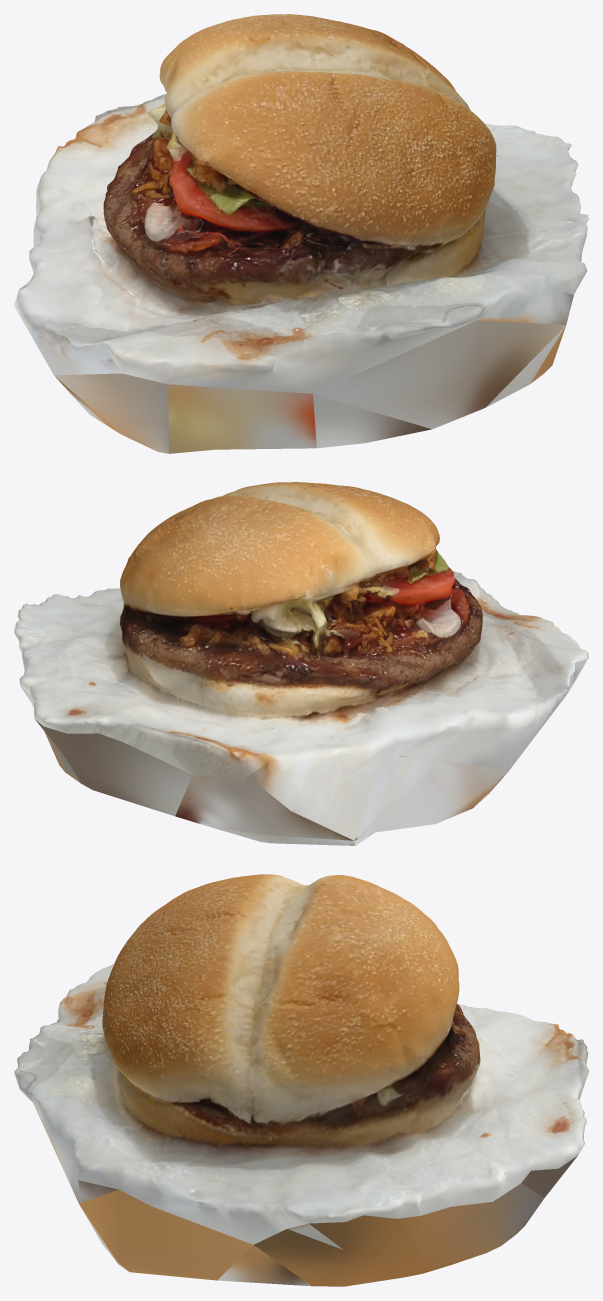
The model's file is bowl.glb.
3 views of the same model, one above another, from view 1: azimuth 30°, elevation 25°; view 2: azimuth 150°, elevation 25°; view 3: azimuth 270°, elevation 25° (orthographic). The views are drawn at different scales.
Parts seen in each view (by area): view 1: Object_2; view 2: Object_2; view 3: Object_2.
Part boxes in pixels (x1,y1,x2,y2): Object_2: (14, 14, 588, 453); Object_2: (14, 482, 588, 845); Object_2: (14, 874, 588, 1286).
Bounding box in the file's own units: 0.2361 × 0.1274 × 0.212.
1 material, 1 textured.
